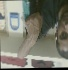hand: (24, 11, 43, 39)
